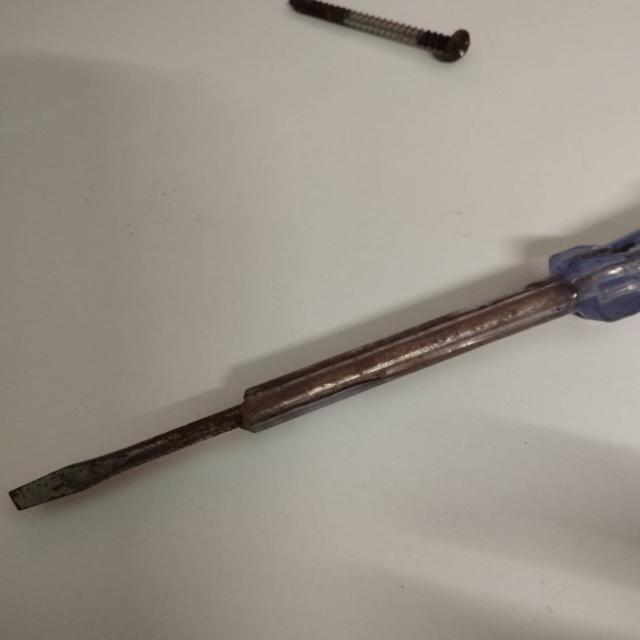corrosion: (46, 275, 554, 497)
